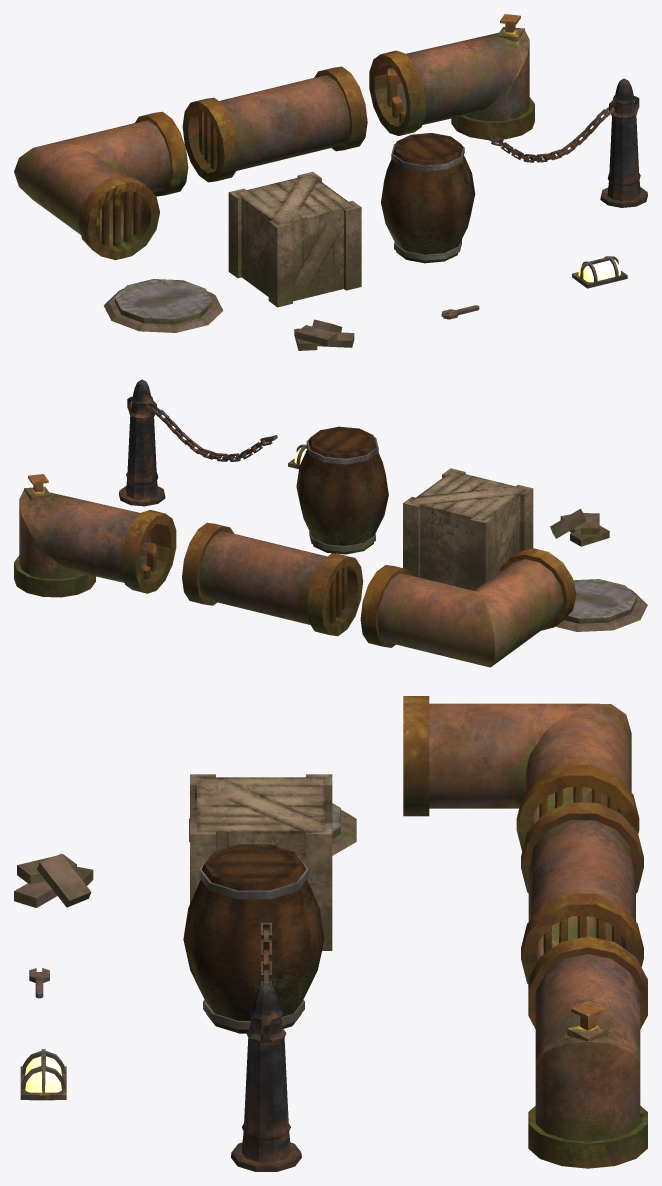
File: low_poly_sewer_props.glb
The picture shows the model from 3 angles, top to bottom: view 1: azimuth 30°, elevation 25°; view 2: azimuth 150°, elevation 25°; view 3: azimuth 270°, elevation 25°; orthographic projection. The views are drawn at different scales.
Visible parts, largest first — view 1: pCylinder8, pCylinder7, pCube1, pCylinder4, pCylinder1, pCylinder9, pCylinder10, pCube29, pCylinder2; view 2: pCylinder8, pCylinder7, pCylinder4, pCube1, pCylinder1, pCylinder10, pCylinder9, pCube29; view 3: pCylinder8, pCylinder7, pCylinder1, pCylinder4, pCube1, pCylinder10, pCube29, pCylinder2, pCylinder9.
Boxes of the visible parts, <box> form: pCylinder8: <box>14,111,188,260</box>; pCylinder7: <box>369,14,534,139</box>; pCube1: <box>228,171,361,307</box>; pCylinder4: <box>182,66,367,182</box>; pCylinder1: <box>381,133,475,263</box>; pCylinder9: <box>103,279,223,332</box>; pCylinder10: <box>485,78,647,207</box>; pCube29: <box>294,319,354,350</box>; pCylinder2: <box>572,256,627,288</box>; pCylinder8: <box>360,548,576,667</box>; pCylinder7: <box>14,474,176,597</box>; pCylinder4: <box>182,522,363,636</box>; pCube1: <box>403,468,533,590</box>; pCylinder1: <box>296,426,388,554</box>; pCylinder10: <box>119,379,277,506</box>; pCylinder9: <box>555,579,647,631</box>; pCube29: <box>550,509,609,546</box>; pCylinder8: <box>403,696,639,851</box>; pCylinder7: <box>528,936,647,1168</box>; pCylinder1: <box>183,844,324,1033</box>; pCylinder4: <box>521,802,643,983</box>; pCube1: <box>190,774,332,950</box>; pCylinder10: <box>231,922,301,1171</box>; pCube29: <box>14,853,93,907</box>; pCylinder2: <box>20,1049,66,1100</box>; pCylinder9: <box>189,803,356,855</box>.
Bounding box in the file's own units: 4.63 × 1 × 3.27.
1 material, 1 textured.
